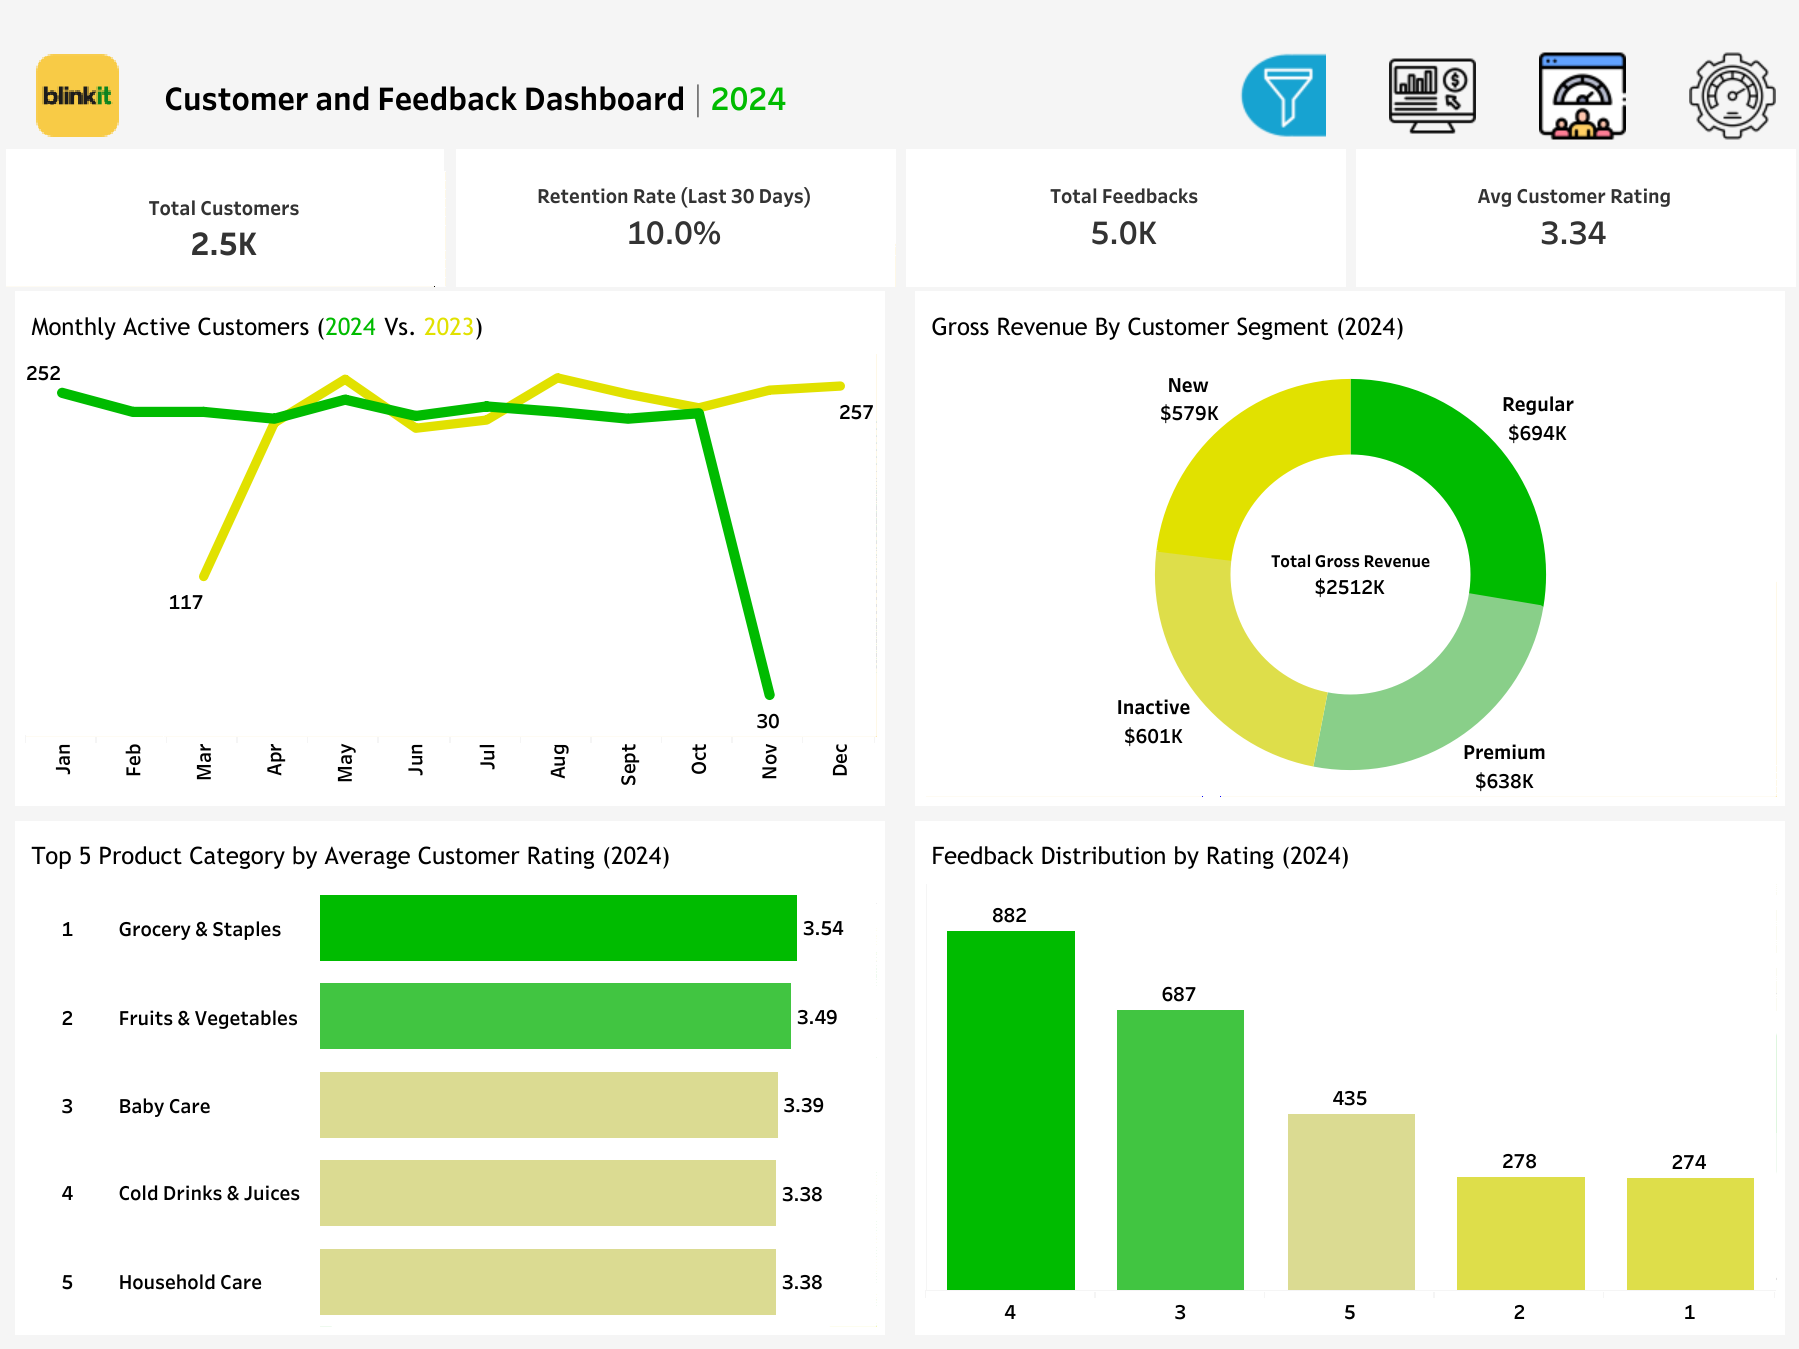

This screenshot's page, from the dashboard's own definition file:
{"tool":"tableau","page":{"name":"Customer and Feeback Dashboard","canvas":[1200,900],"ordinal":0},"visuals":[{"type":"blank","box":[0,0,1200,32]},{"type":"dashboard-object","box":[805,31,100,66]},{"type":"dashboard-object","box":[905,31,100,66]},{"type":"dashboard-object","box":[1005,31,100,66]},{"type":"dashboard-object","box":[1105,31,100,66]},{"type":"image","param":"Image/blinkit-logo_brandlogos.net_yvy1m.png","box":[0,32,103,63]},{"type":"text","box":[103,32,711,63]},{"type":"blank","box":[985,45,199,69]},{"type":"worksheet","title":"Total Customer KPI","mark":"Text","box":[0,95,300,99]},{"type":"worksheet","title":"Customer Retention Rate KPI","mark":"Text","box":[300,95,300,99]},{"type":"worksheet","title":"Total Feedback KPI","mark":"Text","box":[600,95,300,99]},{"type":"worksheet","title":"Average Customer Rating KPI","mark":"Automatic","box":[900,95,300,99]},{"type":"text","box":[985,114,199,79]},{"type":"parameter","param":"[Parameters].[Parameter 1]","box":[985,193,199,70]},{"type":"worksheet","title":"Monthly Active Customers","mark":"Line","rows":["CY Customer Count (copy)_742530999723671556","Calculation_742530999723200515"],"cols":["year"],"box":[0,194,600,353]},{"type":"worksheet","title":"Revenue By Customer Segment","mark":"Pie","rows":["Calculation_358599130787729427","Calculation_358599130787729427"],"box":[600,194,600,353]},{"type":"parameter","param":"[Parameters].[Parameter 3]","box":[985,263,199,88]},{"type":"parameter","param":"[Parameters].[Parameter 2]","box":[985,351,199,84]},{"type":"filter","title":"Revenue By Customer Segment","param":"[federated.1tibeef0onhh3q1dlr67116pfgfz].[none:customer_segment:nk]","box":[985,435,199,128]},{"type":"worksheet","title":"Customer Satisfaction By Category","mark":"Bar","rows":["Calculation_358599130778738704","category"],"cols":["Calculation_358599130777223182"],"box":[0,547,600,353]},{"type":"worksheet","title":"Distribution Of Rating","mark":"Bar","rows":["Calculation_358599130757840905"],"cols":["Rating (bin)"],"box":[600,547,600,353]}]}

Visuals, with their boxes in screenshot pixels (x1, y1, x2, y2), scaled from the page's 1200x900 canvas onto the 1799x1349 screenshot:
blank: box(0, 0, 1798, 48)
dashboard-object: box(1207, 46, 1357, 145)
dashboard-object: box(1357, 46, 1507, 145)
dashboard-object: box(1507, 46, 1657, 145)
dashboard-object: box(1657, 46, 1798, 145)
image: box(0, 48, 154, 142)
text: box(154, 48, 1220, 142)
blank: box(1477, 67, 1775, 171)
"Total Customer KPI" worksheet (Text marks): box(0, 142, 450, 291)
"Customer Retention Rate KPI" worksheet (Text marks): box(450, 142, 900, 291)
"Total Feedback KPI" worksheet (Text marks): box(900, 142, 1349, 291)
"Average Customer Rating KPI" worksheet: box(1349, 142, 1798, 291)
text: box(1477, 171, 1775, 289)
parameter: box(1477, 289, 1775, 394)
"Monthly Active Customers" worksheet (Line marks): box(0, 291, 900, 820)
"Revenue By Customer Segment" worksheet (Pie marks): box(900, 291, 1798, 820)
parameter: box(1477, 394, 1775, 526)
parameter: box(1477, 526, 1775, 652)
"Revenue By Customer Segment" filter: box(1477, 652, 1775, 844)
"Customer Satisfaction By Category" worksheet (Bar marks): box(0, 820, 900, 1348)
"Distribution Of Rating" worksheet (Bar marks): box(900, 820, 1798, 1348)
